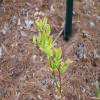Blueberry leaf: (55, 43, 63, 64), (41, 31, 48, 51), (45, 24, 52, 38), (36, 31, 43, 45), (48, 34, 54, 50), (51, 59, 58, 72), (42, 15, 47, 31)
